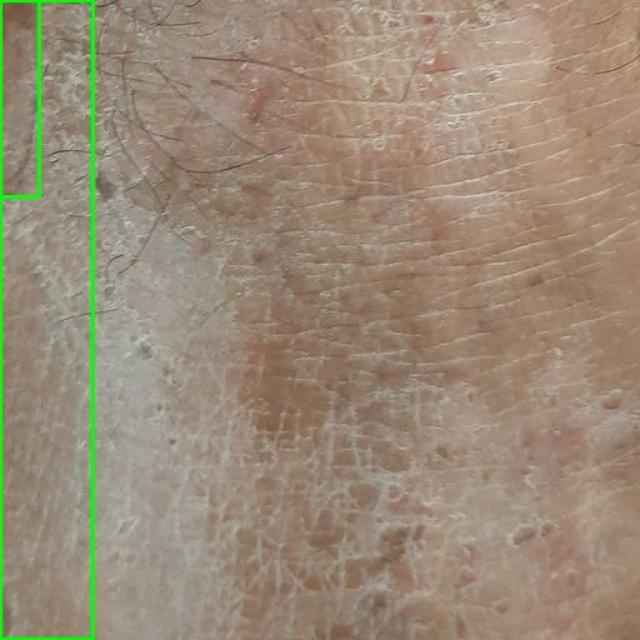Tinea Corporis: (0, 0, 92, 639), (0, 0, 39, 196)
